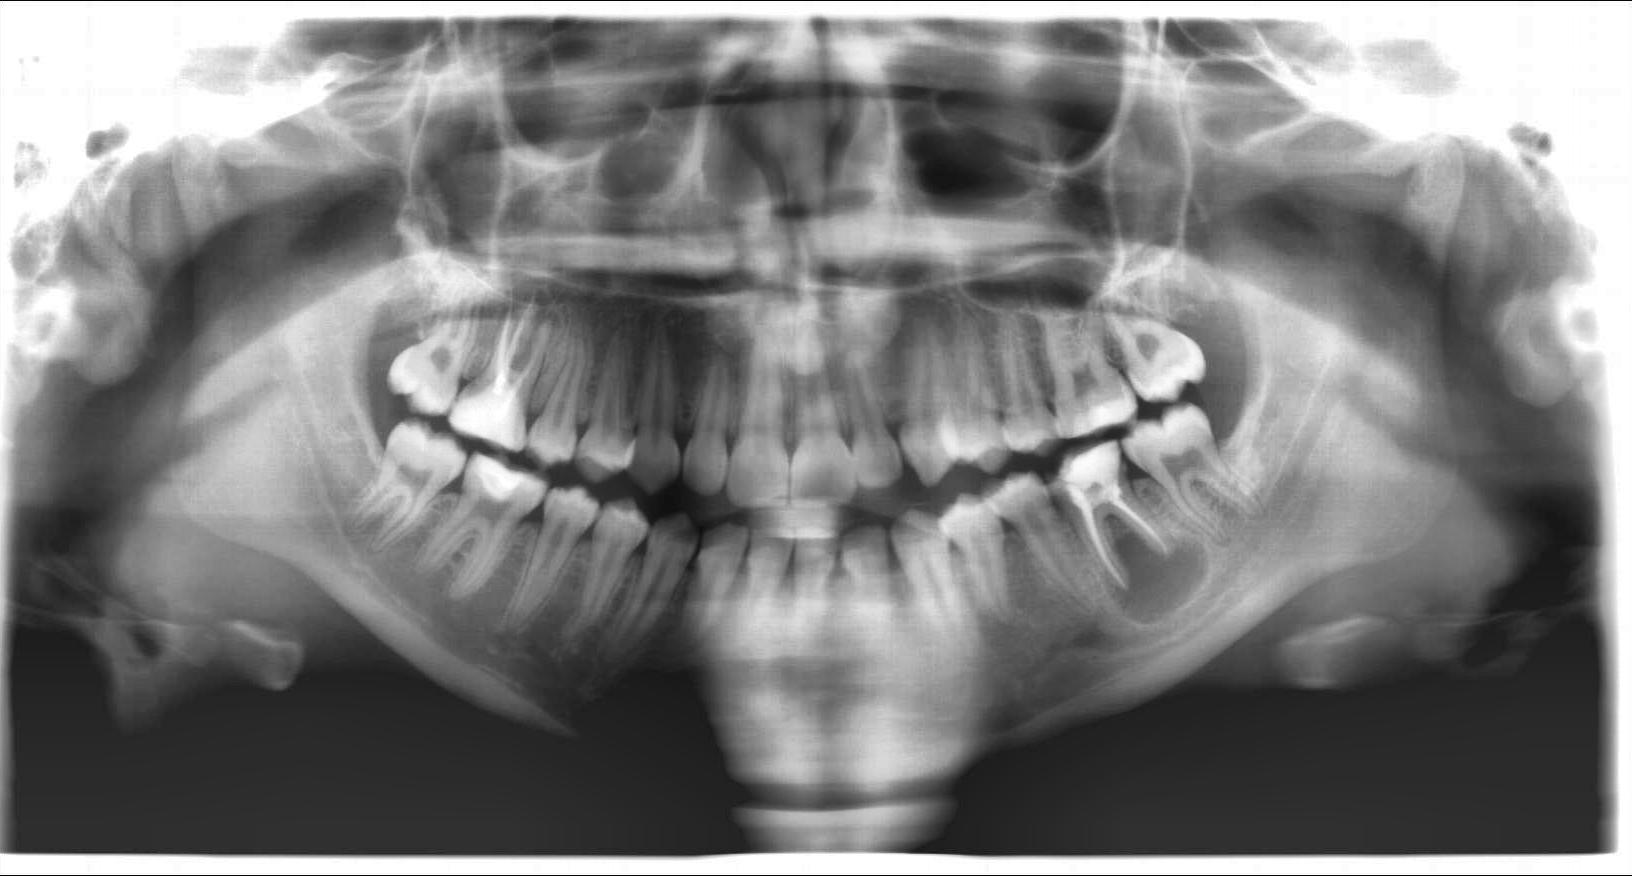radicular: (1099, 526, 1213, 629)
